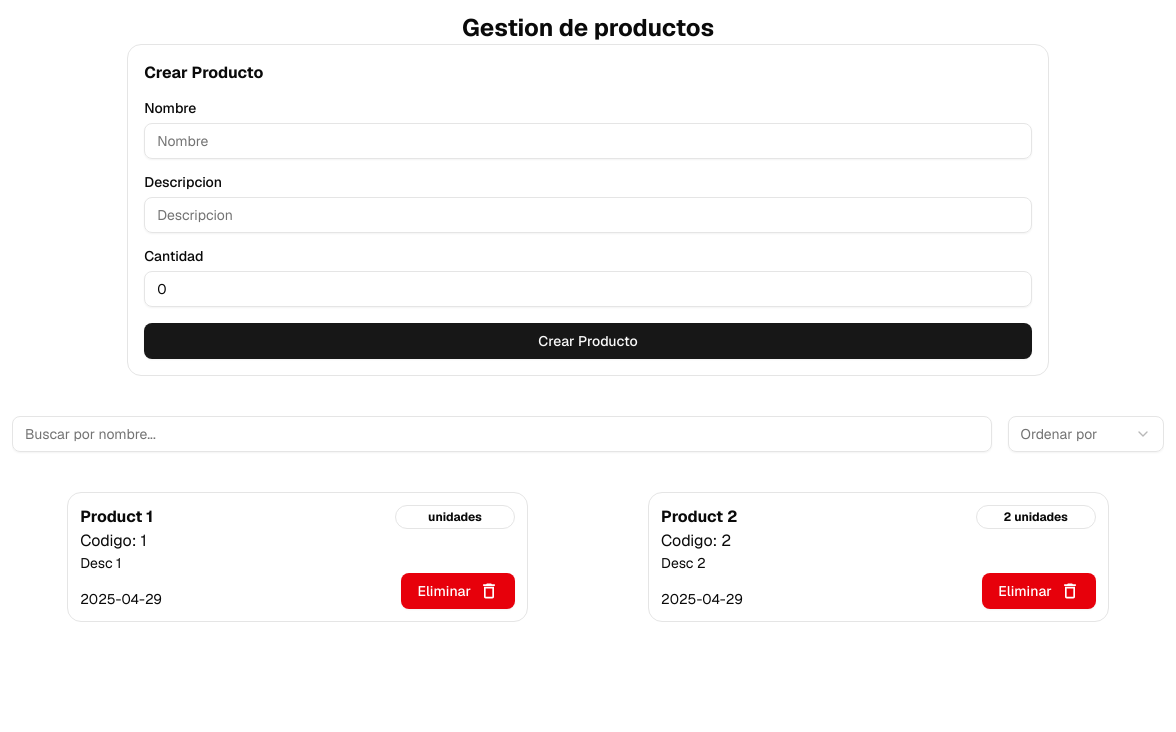
Test: Home › filters the product list
Type "Product 1" into the field with placeholder "Buscar por nombre..." at (502, 434), box x1=12 y1=416 x2=992 y2=452
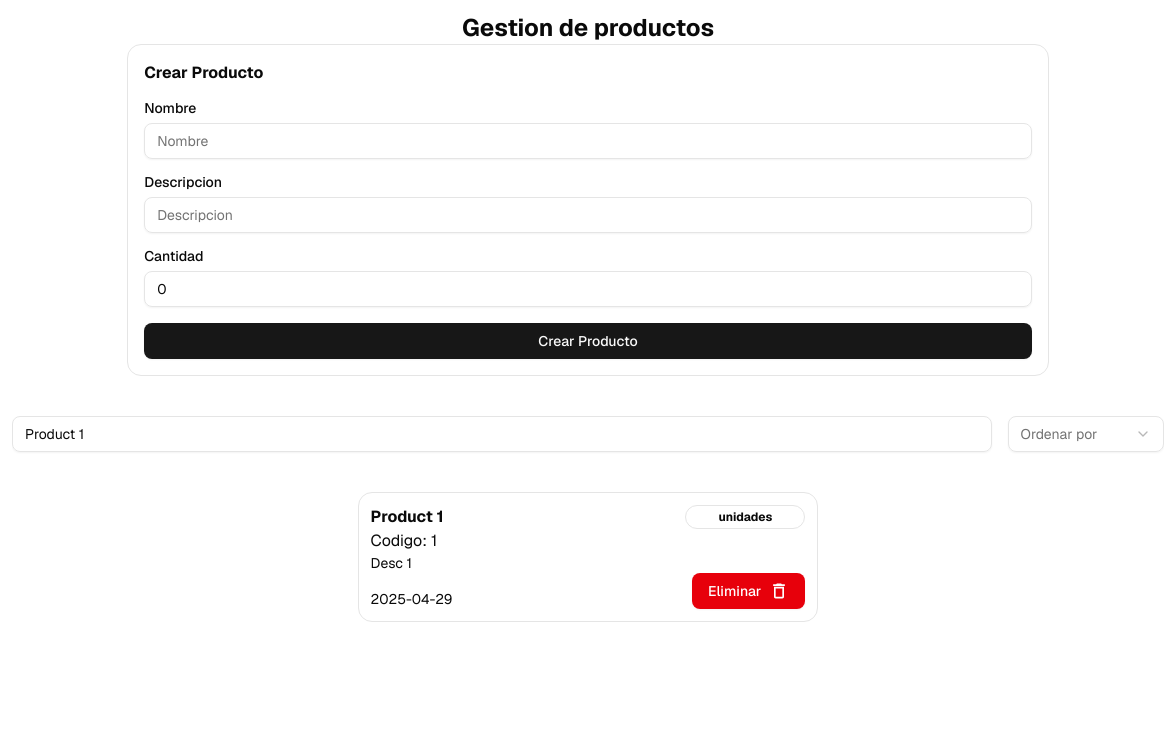
Expected: the text "Product 1" is shown, x1=371 y1=505 x2=444 y2=529
Expected: the text "Product 2" is gone
